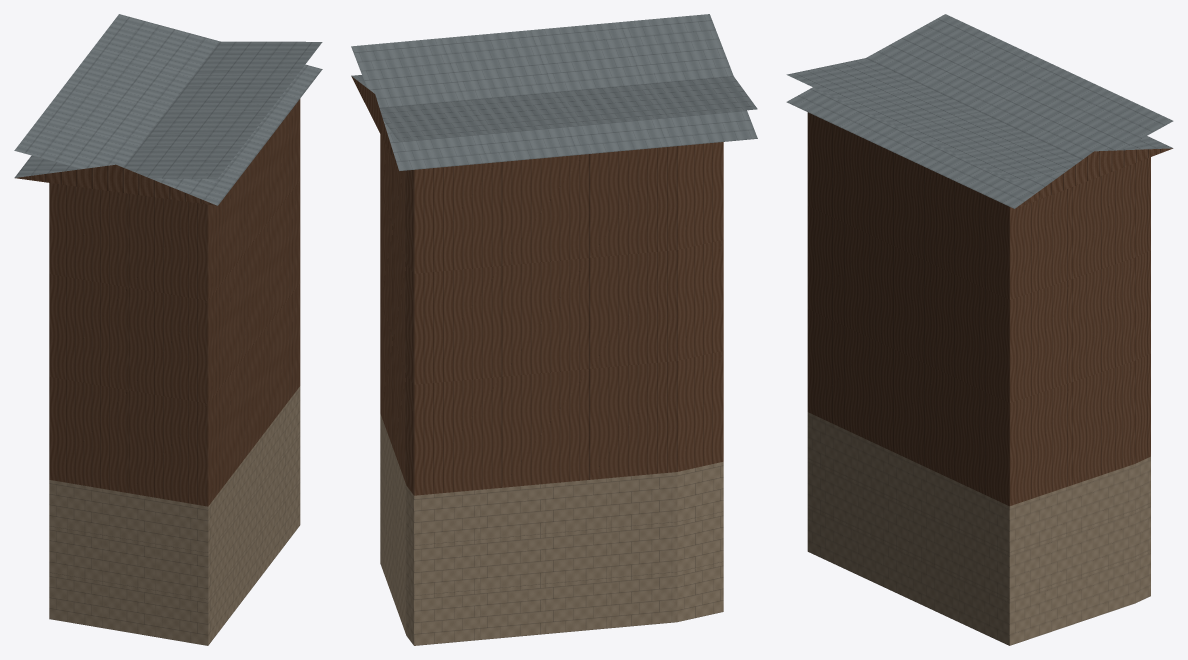
The model's file is bld_c-9_41_520.gltf.
3 views of the same model, side by side, from view 1: azimuth 30°, elevation 25°; view 2: azimuth 150°, elevation 25°; view 3: azimuth 270°, elevation 25° (orthographic). The views are drawn at different scales.
Visible parts, largest first — view 1: bld_c-9_41_520; view 2: bld_c-9_41_520; view 3: bld_c-9_41_520.
Boxes of the visible parts, box(x1,y1,x2,y2) form: bld_c-9_41_520: box(14, 14, 322, 645); bld_c-9_41_520: box(351, 14, 757, 645); bld_c-9_41_520: box(786, 14, 1173, 645).
Bounding box in the file's own units: 13.14 × 17.4 × 12.83.
Materials: 4 (4 with a texture image).
